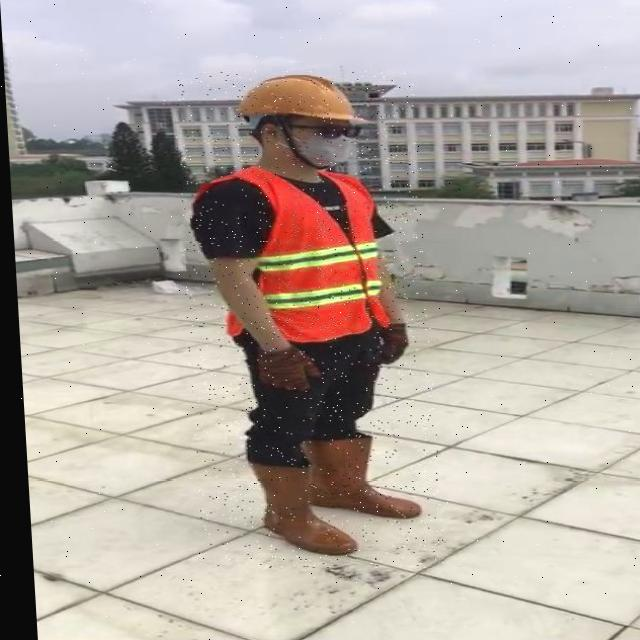Gloves: (252, 344, 319, 392), (374, 323, 407, 364)
Helmet: (232, 74, 372, 134)
Safety-Boot: (295, 432, 416, 519), (246, 460, 352, 555)
Safety-Vest: (188, 164, 401, 345)
